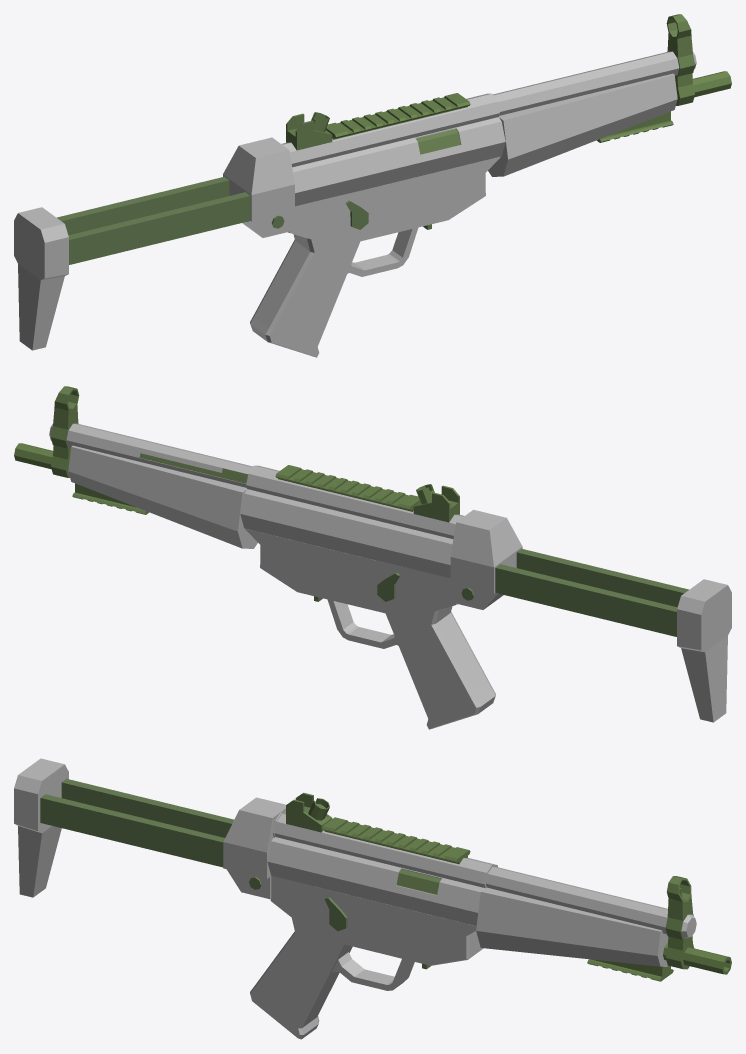
Rendered from SMG2_06.fbx.
3 views of the same model, one above another, from view 1: azimuth 30°, elevation 25°; view 2: azimuth 150°, elevation 25°; view 3: azimuth 330°, elevation 25° (orthographic).
Parts seen in each view (by area): view 1: SMG2_06; view 2: SMG2_06; view 3: SMG2_06.
Boxes of the visible parts, left/top/right/bottom form: SMG2_06: left=14, top=14, right=731, bottom=357; SMG2_06: left=14, top=386, right=731, bottom=729; SMG2_06: left=14, top=758, right=731, bottom=1039.
Size of the model in its own units: 0.7164 by 0.2409 by 0.0566.
